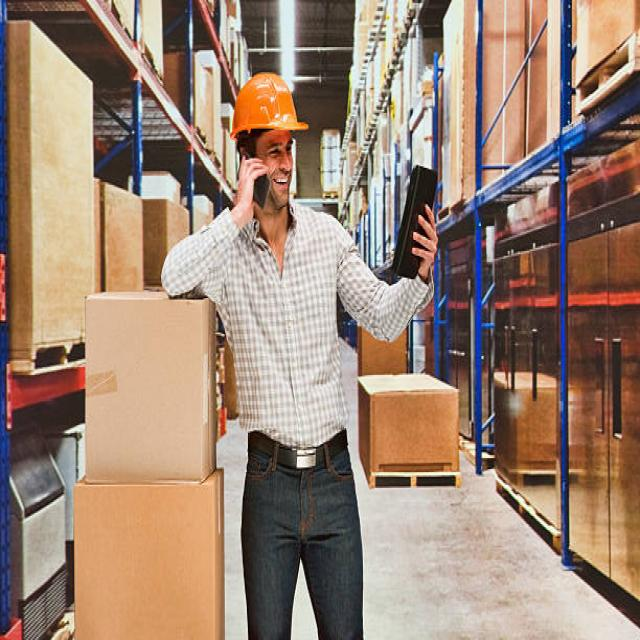Wooden-Pallets: (368, 465, 462, 499)
